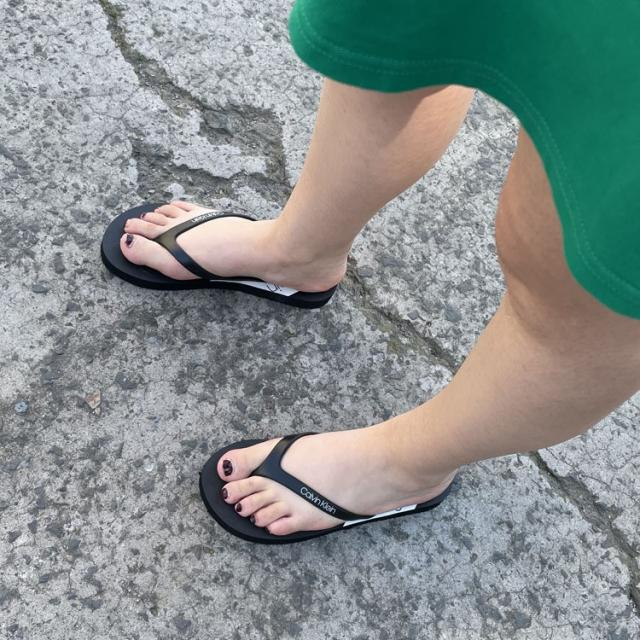Sandals: (67, 171, 498, 579)
